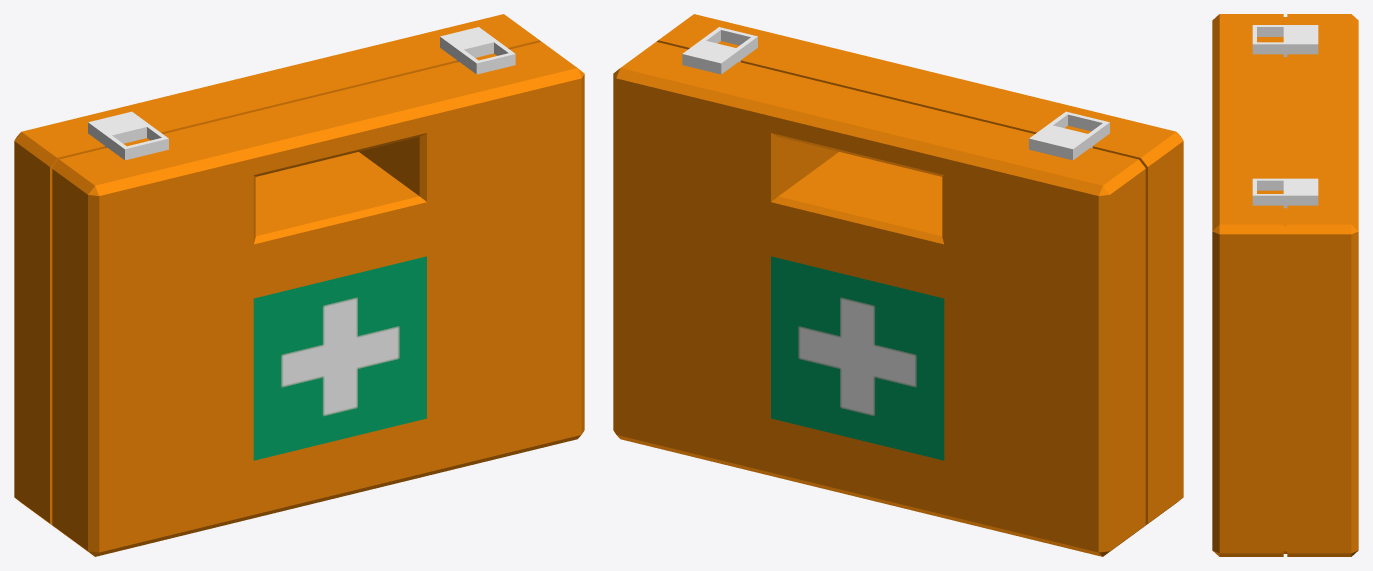
The model's file is be016dd1-f2b4-4fc1-a744-2dff71d75e88.glb.
3 renders of one model, left to right at view 1: azimuth 30°, elevation 25°; view 2: azimuth 150°, elevation 25°; view 3: azimuth 270°, elevation 25°, orthographic. The views are drawn at different scales.
Visible parts, largest first — view 1: MedKit; view 2: MedKit; view 3: MedKit.
Part boxes in pixels (x1,y1,x2,y2): MedKit: (14,14,584,556); MedKit: (613,14,1183,556); MedKit: (1212,14,1358,556).
Size of the model in its own units: 0.35 by 0.2575 by 0.1.
1 material, 1 textured.
